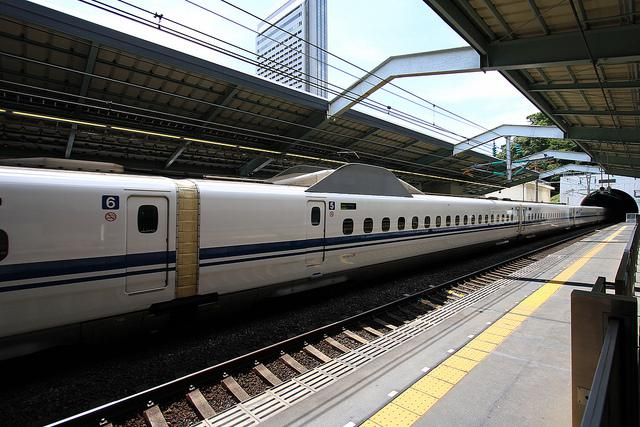Train: (1, 170, 607, 344)
